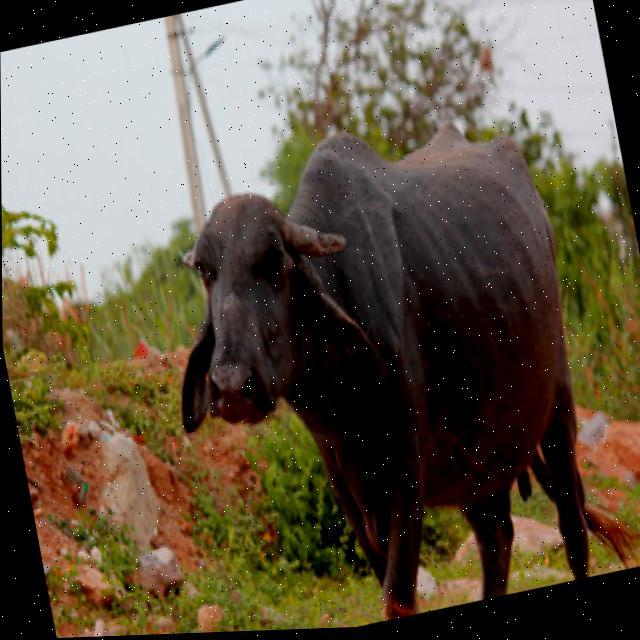Buffalo: (132, 76, 640, 635)
